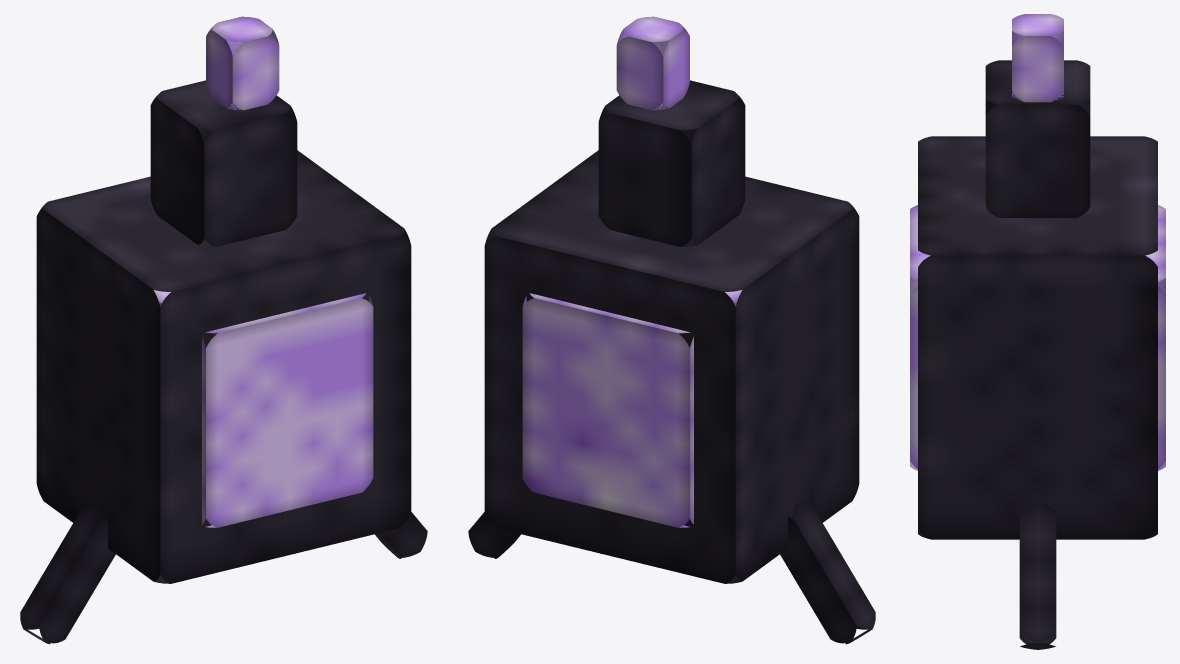
Rendered from ink_gland.obj.
The picture shows the model from 3 angles, left to right: view 1: azimuth 30°, elevation 25°; view 2: azimuth 150°, elevation 25°; view 3: azimuth 270°, elevation 25°; orthographic projection. The views are drawn at different scales.
Visible parts, largest first — view 1: lit, fire; view 2: lit, fire; view 3: lit, fire.
Boxes of the visible parts, <box> form: lit: <box>20,80,427,644</box>; fire: <box>154,16,373,527</box>; lit: <box>468,80,875,644</box>; fire: <box>522,16,741,527</box>; lit: <box>918,60,1157,649</box>; fire: <box>910,14,1165,470</box>.
Size of the model in its own units: 0.5391 by 0.7279 by 0.3062.
